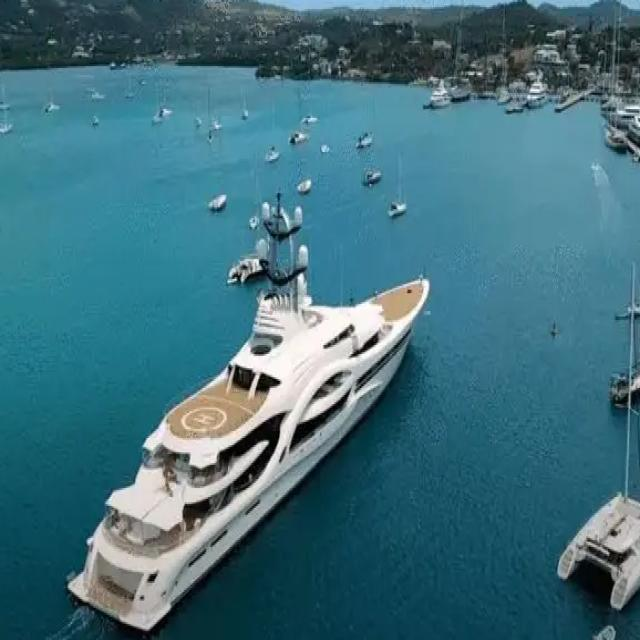passenger ship: (74, 280, 433, 632)
